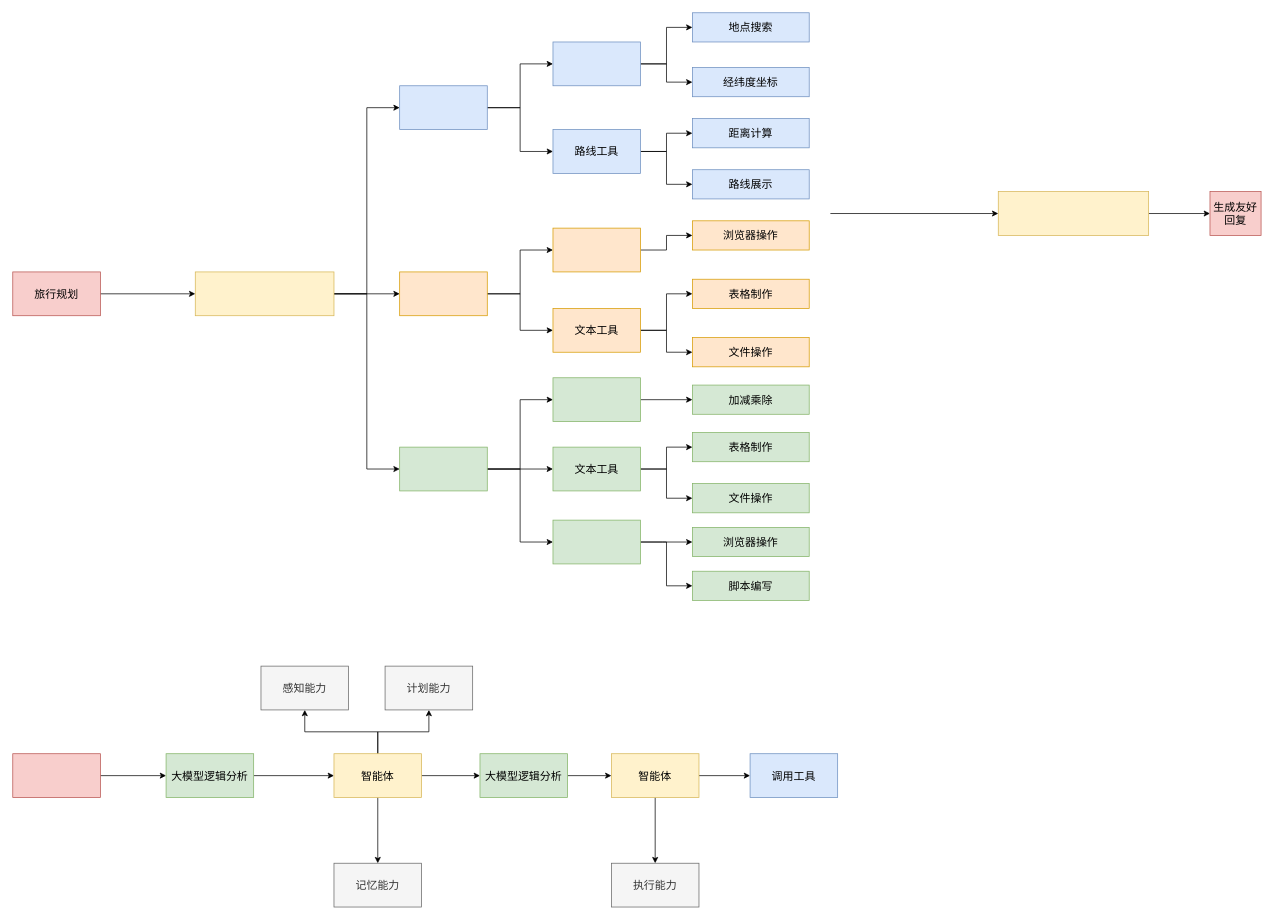
The diagram is 1274 pixels wide and 920 high, and some of its shapes have lost their labels. Each missing label, with the centre of its shape:
"主管Agent 意图识别，拆解任务" belongs at point 264,293.
"地点搜索工具" belongs at point 596,63.
"汇总Agent 整合Agent执行结果" belongs at point 1073,213.
"用户需求" belongs at point 56,775.
"编辑工具" belongs at point 596,541.
"网络搜索工具" belongs at point 596,249.
"行程规划Agent" belongs at point 443,293.
"计算工具" belongs at point 596,399.
"费用统筹Agent" belongs at point 443,468.
"路线规划Agent" belongs at point 443,107.
